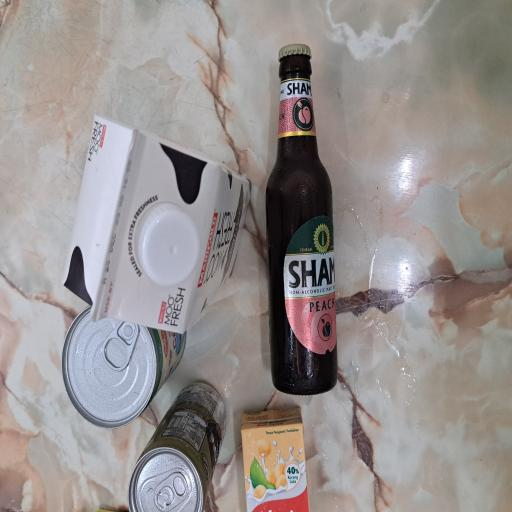can: (64, 82, 158, 242), (0, 166, 100, 301)
drink carton: (134, 88, 298, 334), (0, 315, 81, 417)
glass bottle: (89, 349, 352, 450)
plastic bottle cap: (171, 179, 233, 269)
pop tab: (104, 136, 142, 190), (0, 201, 30, 251)
